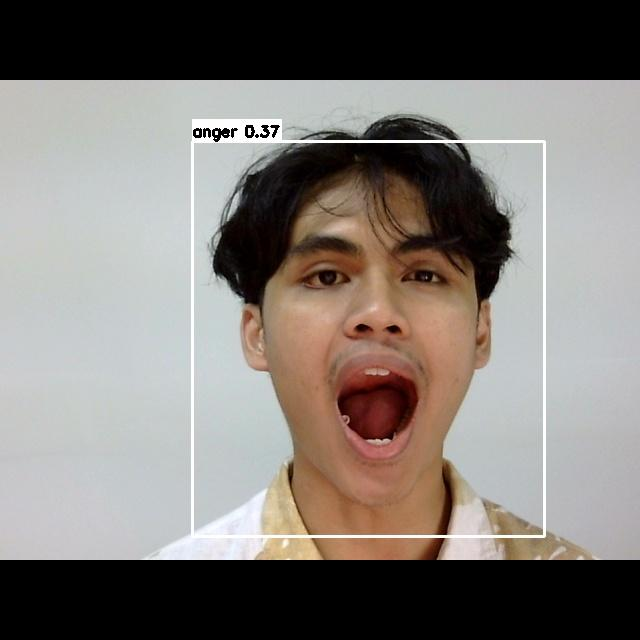Surprised: (266, 210, 480, 481)
